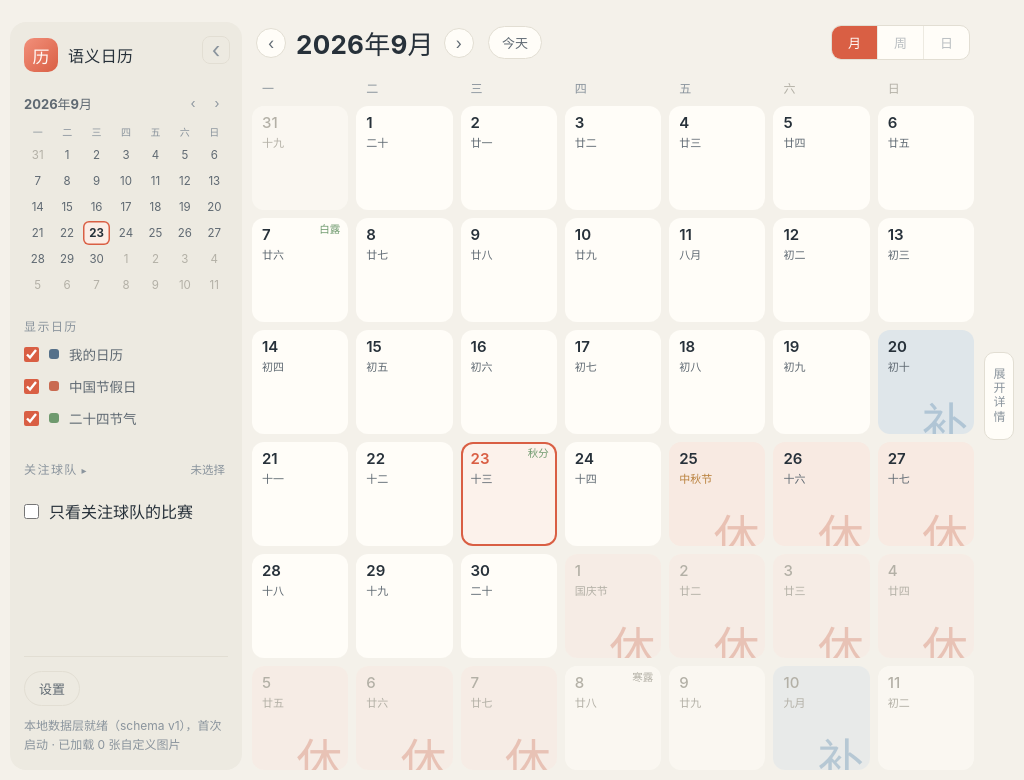
Test: ICS / WebCal 订阅（SC-007 / SRC-002 / SRC-003 / SRC-004） › 非法地址不创建来源，并保留输入内容供修正
The width and height of the screenshot is (1024, 780).
Expected: the text "本地数据层就绪（schema v1），首次启动 · 已加载 0 张自定义图片" is shown, 24,716 -> 228,754
Click the button "设置".
click(52, 688)  # box 24,671 -> 80,706
(page scrolled)
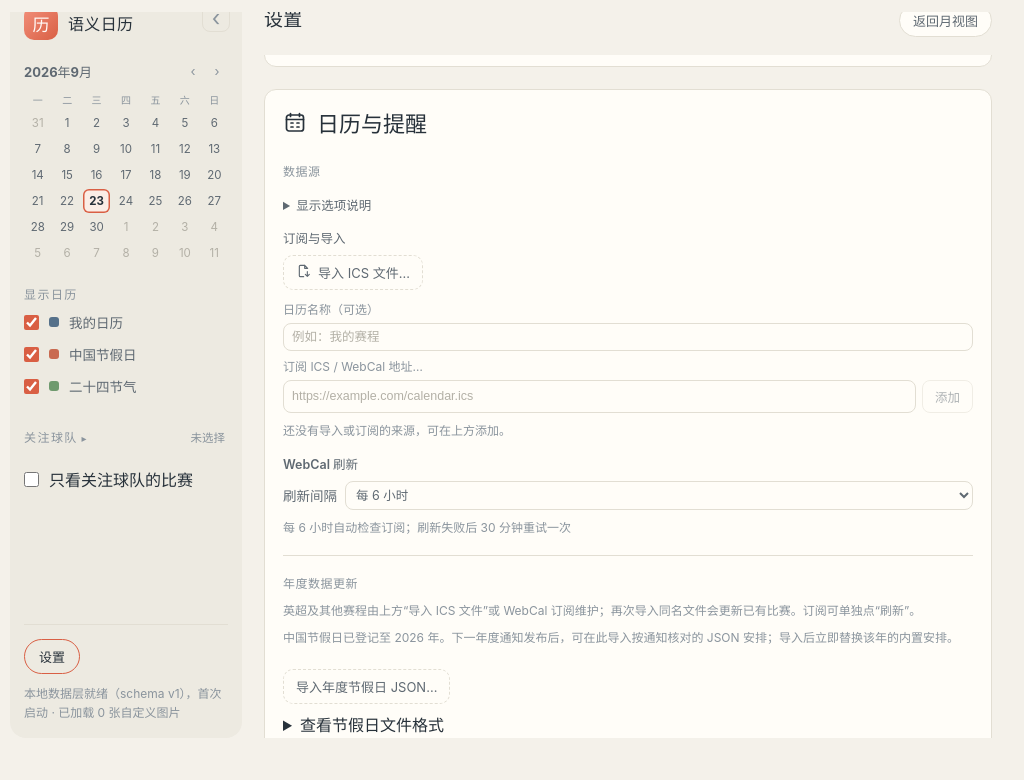
Type "ftp://example.com/feed.ics" into the field labelled "订阅 ICS / WebCal 地址…".
click(600, 396); type("ftp://example.com/feed.ics")  # box 283,380 -> 916,413
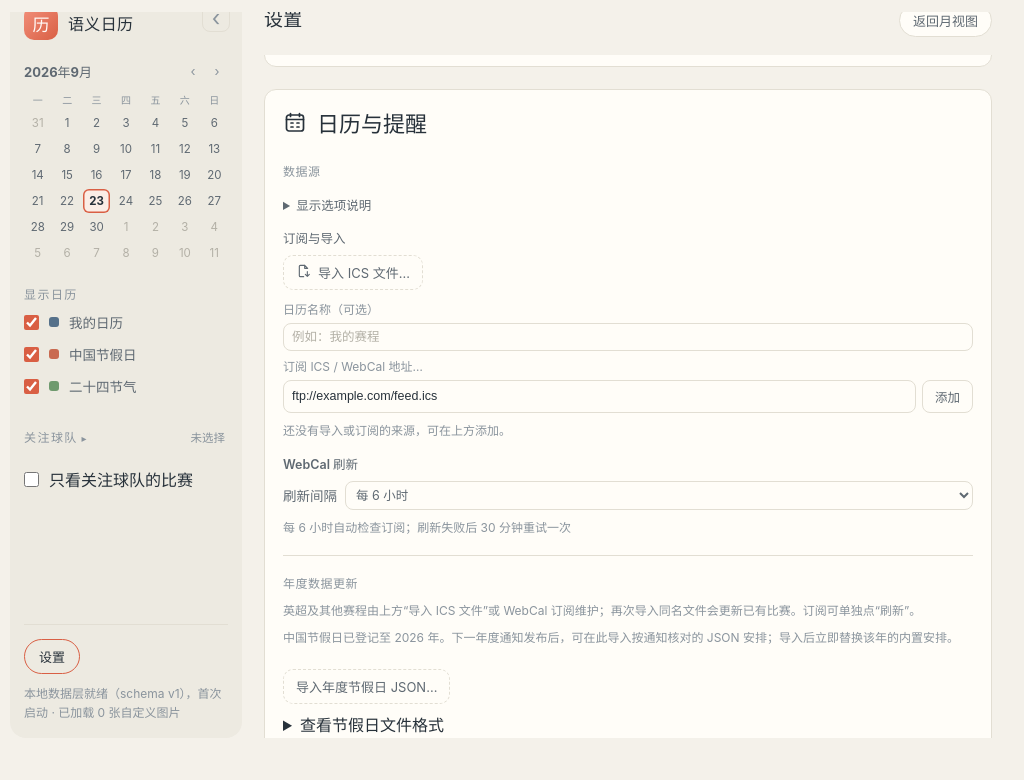
Click the button "添加".
click(948, 396)  # box 922,380 -> 973,413
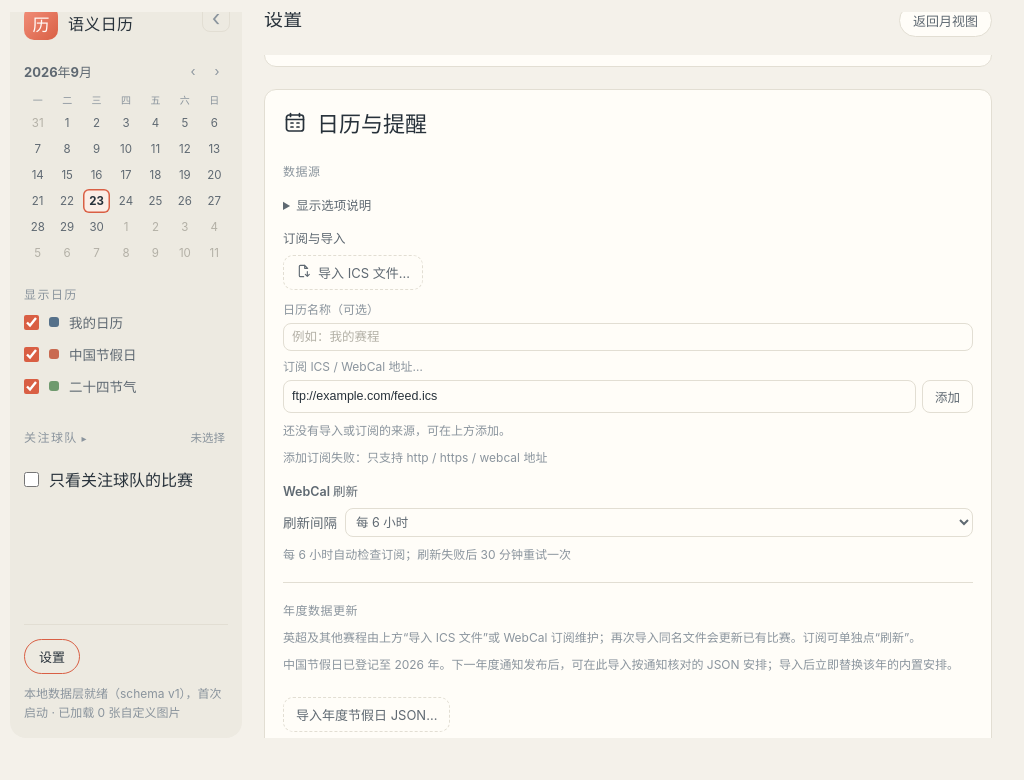
Now the text "添加订阅失败：只支持 http / https / webcal 地址" is shown, box 283,450 -> 547,465
